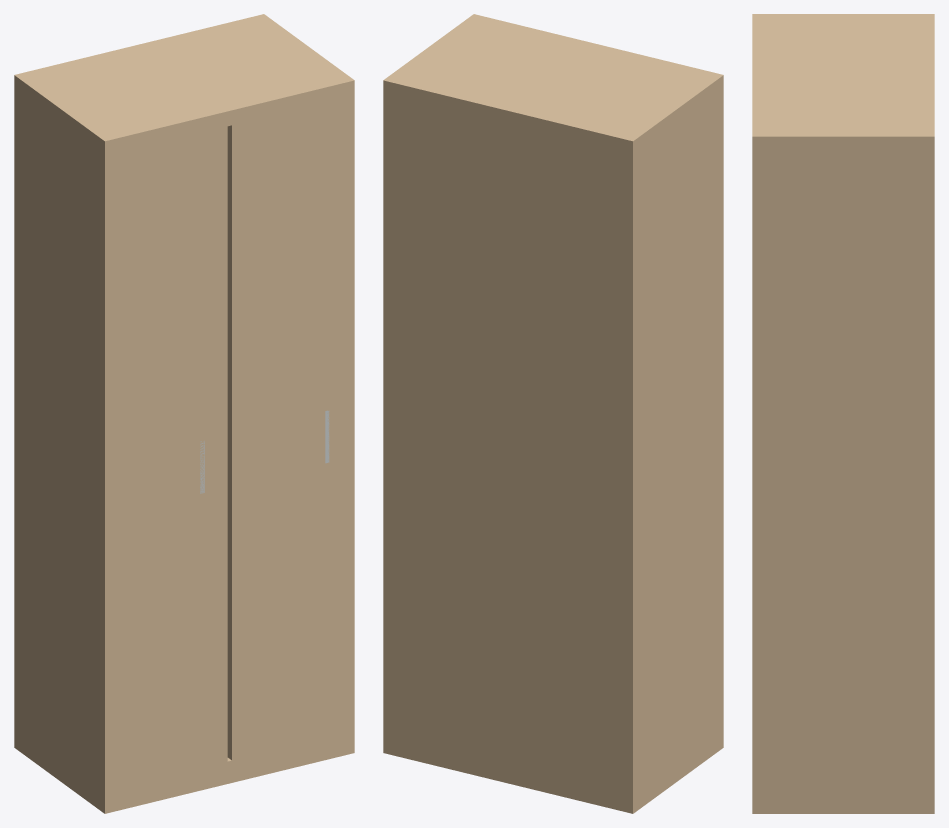
File: f-bed6-o02-1040883e47.glb
3 renders of one model, left to right at view 1: azimuth 30°, elevation 25°; view 2: azimuth 150°, elevation 25°; view 3: azimuth 270°, elevation 25°, orthographic.
Parts seen in each view (by area): view 1: door-panel-1, door-panel-2, part-03, part-02, part-04, part-01, part-00; view 2: part-00, part-03, part-02, part-04, part-01; view 3: part-04, part-02, part-00, part-01.
Boxes of the visible parts, <box> form: door-panel-1: <box>107,126,227,787</box>; door-panel-2: <box>227,99,352,760</box>; part-03: <box>14,73,118,813</box>; part-02: <box>14,14,354,156</box>; part-04: <box>254,15,354,755</box>; part-01: <box>14,730,354,813</box>; part-00: <box>14,14,270,752</box>; part-00: <box>383,75,640,813</box>; part-03: <box>619,71,723,812</box>; part-02: <box>383,14,723,156</box>; part-04: <box>383,14,485,753</box>; part-01: <box>383,725,723,813</box>; part-04: <box>752,130,934,813</box>; part-02: <box>752,14,934,151</box>; part-00: <box>920,14,934,813</box>; part-01: <box>752,791,934,813</box>.
Size of the model in its own units: 0.7 by 1.8 by 0.44.
